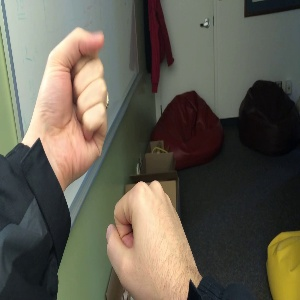hand: (106, 179, 201, 291), (33, 26, 108, 166)
